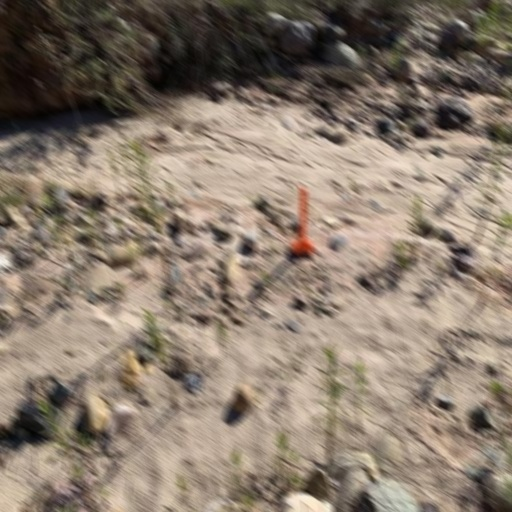mallet: (292, 184, 315, 257)
